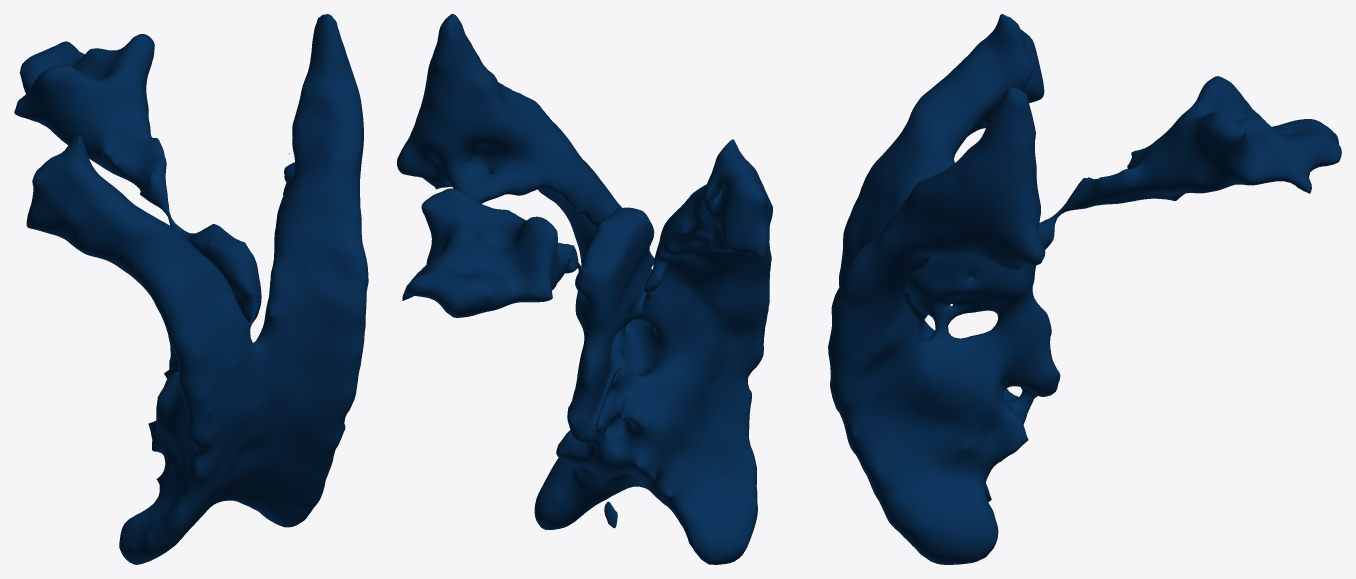
The model's file is Ventricle.obj.
3 renders of one model, left to right at view 1: azimuth 30°, elevation 25°; view 2: azimuth 150°, elevation 25°; view 3: azimuth 270°, elevation 25°, orthographic. The views are drawn at different scales.
Parts seen in each view (by area): view 1: grp1; view 2: grp1; view 3: grp1.
Part boxes in pixels (<box>): grp1: <box>14,14,368,564</box>; grp1: <box>397,14,772,564</box>; grp1: <box>828,14,1341,564</box>.
Size of the model in its own units: 66.72 by 89.07 by 80.49.
